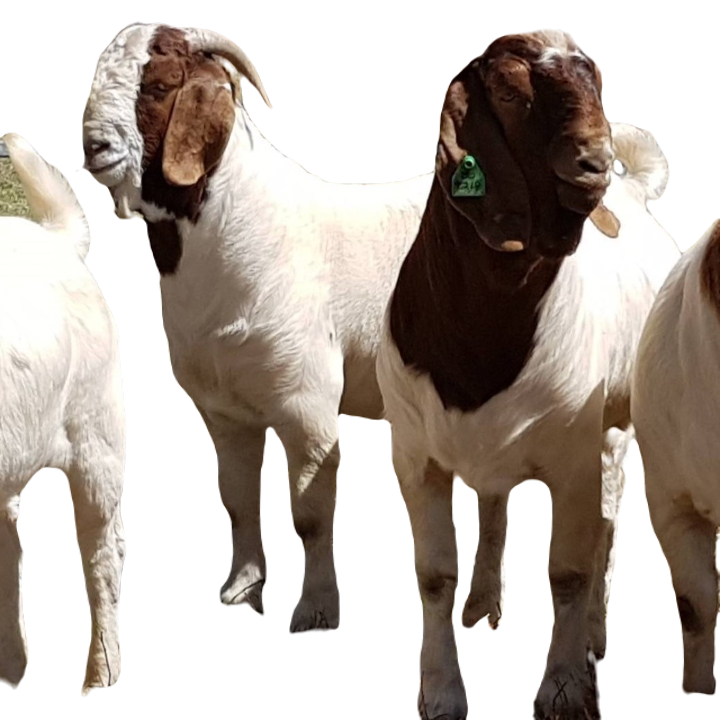Goat: (371, 32, 681, 719)
